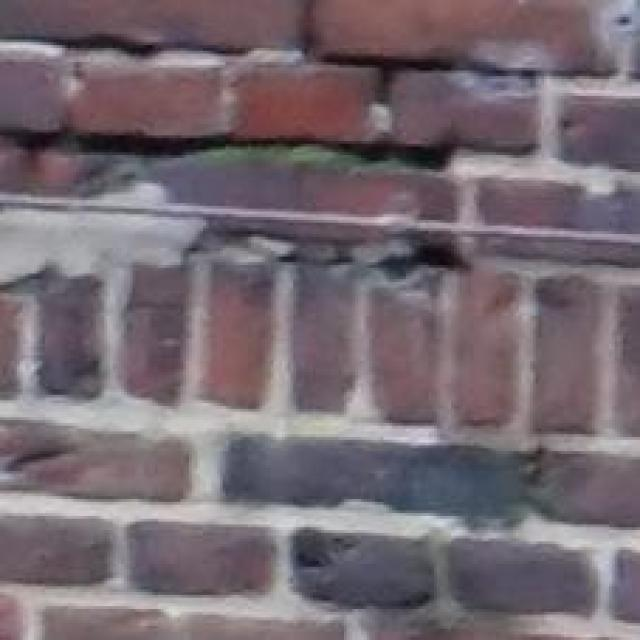Crack: (0, 0, 640, 282)
